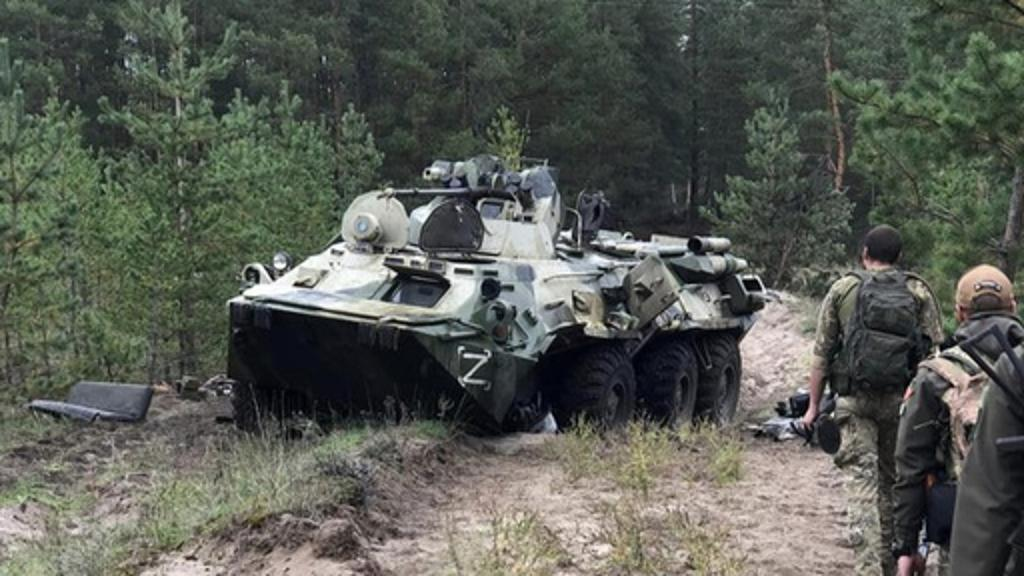APC-IFV: (222, 144, 760, 440)
